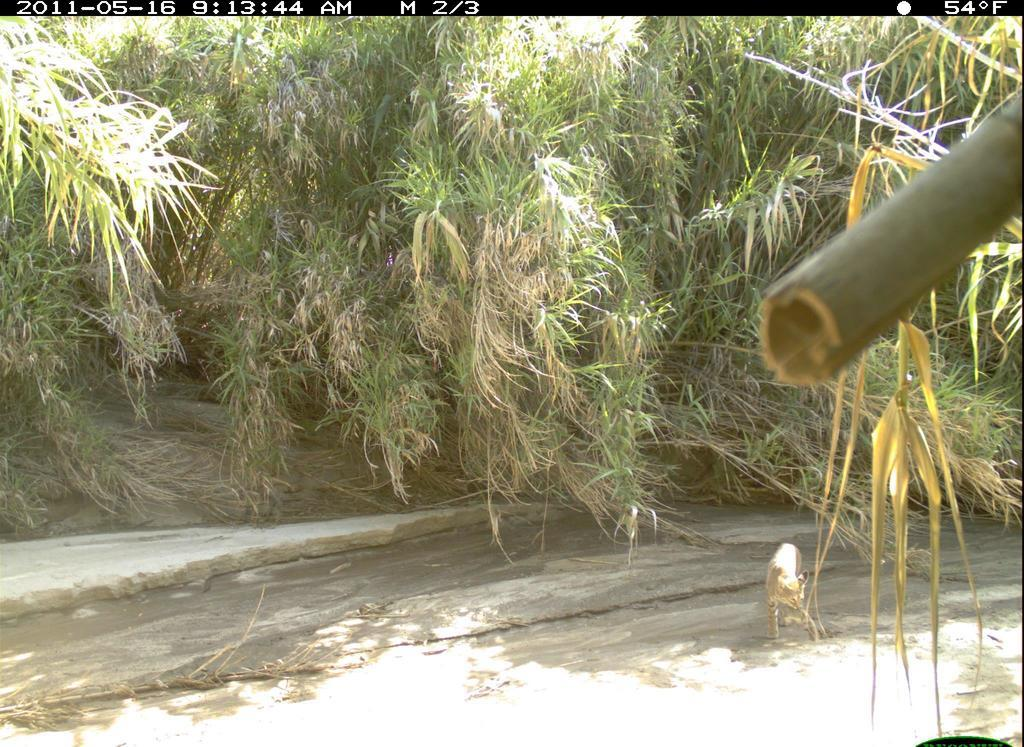bobcat: (749, 534, 833, 664)
